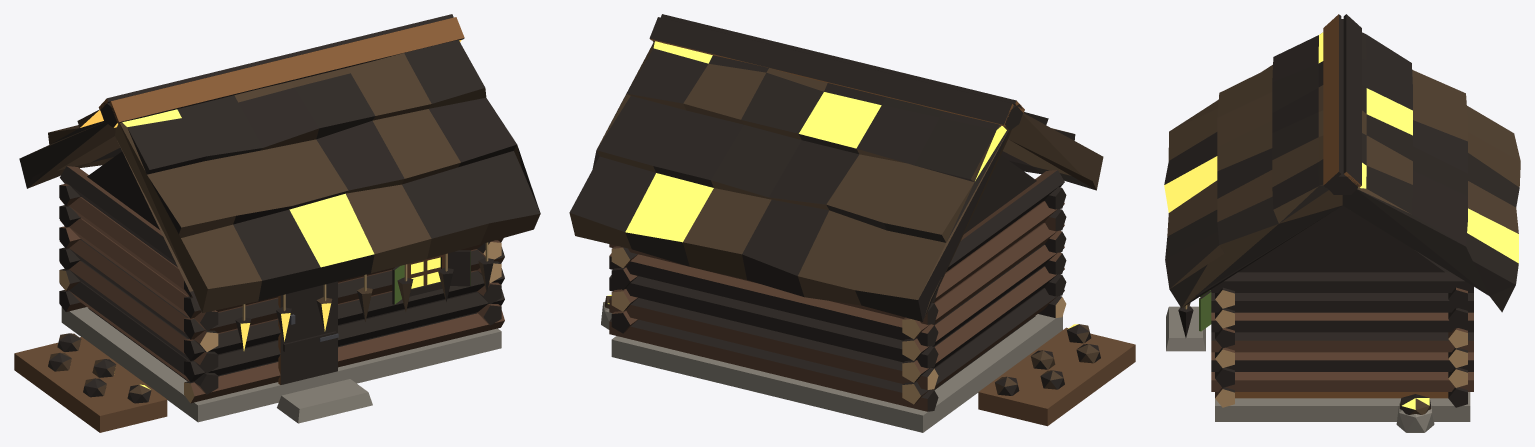
The model's file is Dorf_Kraeuterhuette_Beschaedigt.fbx.
3 renders of one model, left to right at view 1: azimuth 30°, elevation 25°; view 2: azimuth 150°, elevation 25°; view 3: azimuth 270°, elevation 25°, orthographic. The views are drawn at different scales.
Visible parts, largest first — view 1: Dorf_Kraeuterhuette_Beschaedigt; view 2: Dorf_Kraeuterhuette_Beschaedigt; view 3: Dorf_Kraeuterhuette_Beschaedigt.
Part boxes in pixels (x1,y1,x2,y2): Dorf_Kraeuterhuette_Beschaedigt: (14, 14, 540, 432); Dorf_Kraeuterhuette_Beschaedigt: (569, 14, 1135, 432); Dorf_Kraeuterhuette_Beschaedigt: (1164, 14, 1520, 432).
Bounding box in the file's own units: 6.3 × 3.98 × 4.89.
